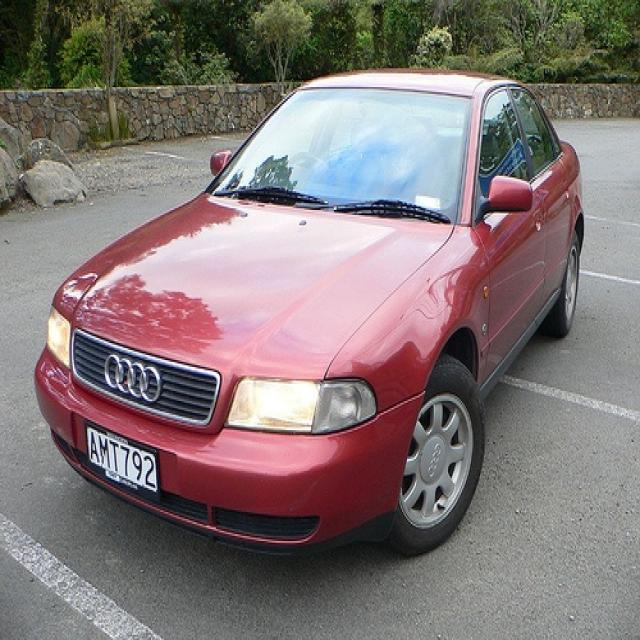car: (29, 67, 586, 563)
